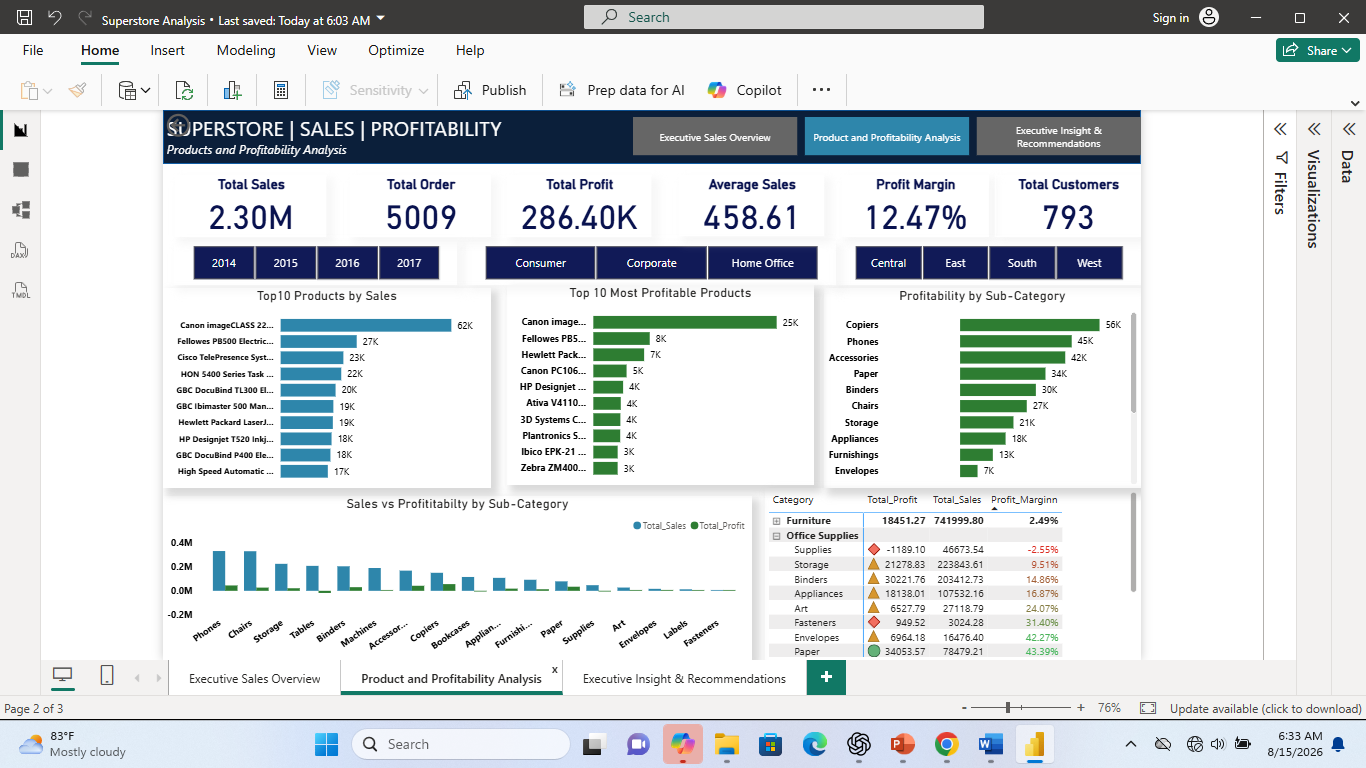

The page's visual inventory and layout, read from the dashboard file:
{"tool":"powerbi","page":{"name":"Product and Profitability Analysis","canvas":[1280,720],"ordinal":1},"visuals":[{"type":"card","title":"Total Sales","fields":{"Values":["Sample - Superstore.Total_Sales"]},"box":[15.1,85.7,198.2,80.6],"z":0},{"type":"card","title":"Total Order","fields":{"Values":["Sample - Superstore.Total_Order"]},"box":[244.8,85,184.3,80.6],"z":1000},{"type":"card","title":"Total Profit","fields":{"Values":["Sample - Superstore.Total_Profit"]},"box":[450.7,85,188.6,80.6],"z":2000},{"type":"card","title":"Profit Margin","fields":{"Values":["Sample - Superstore.Profit_Marginn"]},"box":[888.5,85,191.5,80.6],"z":3000},{"type":"card","title":"Total Customers","fields":{"Values":["Count(Sample - Superstore.Customer ID)"]},"box":[1088.6,85,191.5,80.6],"z":4000},{"type":"slicer","fields":{"Values":["Calendar.Year"]},"box":[14.3,171.4,371.4,57.1],"z":5000},{"type":"slicer","fields":{"Values":["Sample - Superstore.Region"]},"box":[881.4,171.4,398.6,57.1],"z":6000},{"type":"slicer","fields":{"Values":["Sample - Superstore.Segment"]},"box":[397.1,171.4,484.3,57.1],"z":7000},{"type":"pivotTable","fields":{"Values":["Sample - Superstore.Total_Profit","Sample - Superstore.Total_Sales","Sample - Superstore.Profit_Marginn"],"Rows":["Sample - Superstore.Category","Sample - Superstore.Sub-Category"]},"box":[788.1,494.8,492.2,225.2],"z":8000},{"type":"clusteredBarChart","title":"Top 10 Most Profitable Products","fields":{"Category":["Sample - Superstore.Product Name"],"Y":["Sample - Superstore.Total_Profit"]},"box":[450.7,229,401.8,262.1],"z":9000},{"type":"barChart","title":"Top10 Products by Sales","fields":{"Category":["Sample - Superstore.Product Name"],"Y":["Sample - Superstore.Total_Sales"]},"box":[0,233.3,429.1,262.1],"z":10000},{"type":"clusteredBarChart","title":"Profitability by Sub-Category","fields":{"Category":["Sample - Superstore.Sub-Category"],"Y":["Sample - Superstore.Total_Profit"]},"box":[865.4,233.3,414.7,262.1],"z":11000},{"type":"shape","box":[0,0,1280,70.6],"z":12000},{"type":"textbox","box":[0,0,568.4,70.2],"z":13000},{"type":"clusteredColumnChart","title":"Sales vs Profititabilty  by Sub-Category","fields":{"Category":["Sample - Superstore.Sub-Category"],"Y":["Sample - Superstore.Total_Sales","Sample - Superstore.Total_Profit"]},"box":[0,505.3,771.1,214.7],"z":14000},{"type":"pageNavigator","box":[614.9,8.6,665.3,50.4],"z":16000},{"type":"actionButton","box":[0,0,100,40],"z":17000},{"type":"card","title":"Average Sales","fields":{"Values":["Sample - Superstore.Average_sales"]},"box":[675.8,85.3,189.9,79.8],"z":18000}]}

Visuals, with their boxes on the page's 1280x720 design canvas (x1, y1, x2, y2). These are canvas units, not pixel positions in the 1366x768 screenshot, which may show the page scaled, cropped or inside an application window:
"Total Sales" card: left=15, top=86, right=213, bottom=166
"Total Order" card: left=245, top=85, right=429, bottom=166
"Total Profit" card: left=451, top=85, right=639, bottom=166
"Profit Margin" card: left=888, top=85, right=1080, bottom=166
"Total Customers" card: left=1089, top=85, right=1280, bottom=166
slicer - Calendar.Year: left=14, top=171, right=386, bottom=228
slicer - Sample - Superstore.Region: left=881, top=171, right=1280, bottom=228
slicer - Sample - Superstore.Segment: left=397, top=171, right=881, bottom=228
pivotTable - Sample - Superstore.Total_Profit x Sample - Superstore.Total_Sales: left=788, top=495, right=1280, bottom=720
"Top 10 Most Profitable Products" clusteredBarChart: left=451, top=229, right=852, bottom=491
"Top10 Products by Sales" barChart: left=0, top=233, right=429, bottom=495
"Profitability by Sub-Category" clusteredBarChart: left=865, top=233, right=1280, bottom=495
shape: left=0, top=0, right=1280, bottom=71
textbox: left=0, top=0, right=568, bottom=70
"Sales vs Profititabilty  by Sub-Category" clusteredColumnChart: left=0, top=505, right=771, bottom=720
pageNavigator: left=615, top=9, right=1280, bottom=59
actionButton: left=0, top=0, right=100, bottom=40
"Average Sales" card: left=676, top=85, right=866, bottom=165
